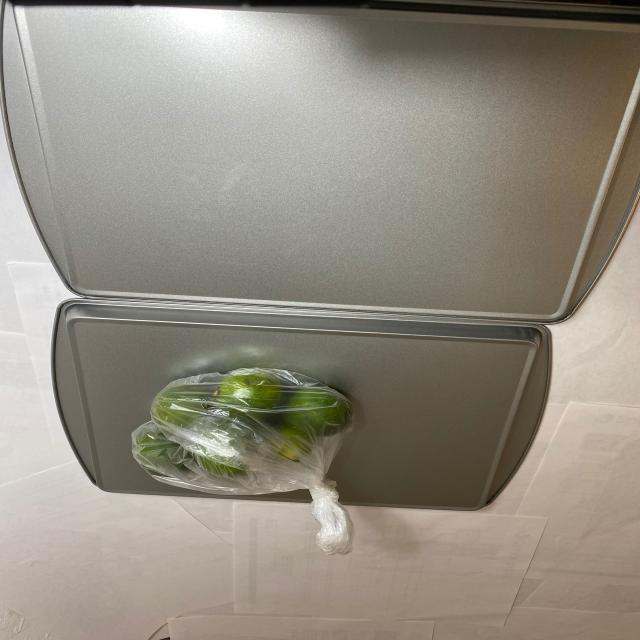lemon: (133, 366, 358, 484)
